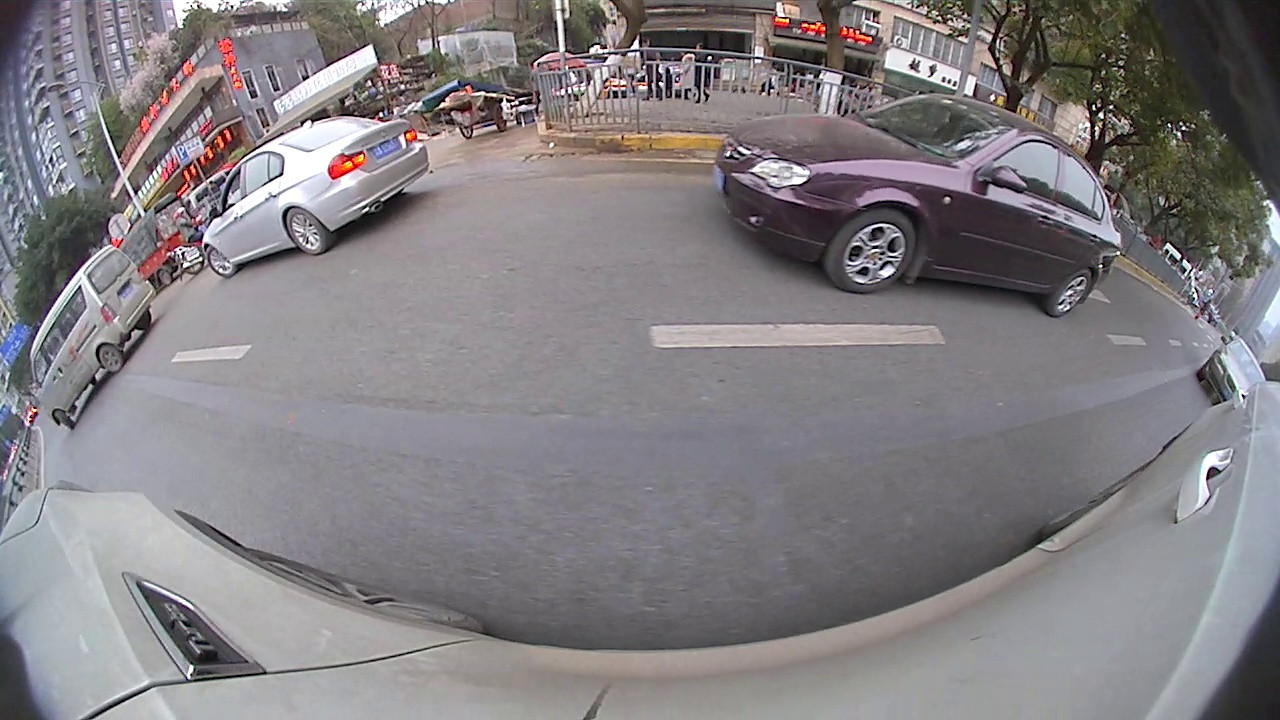car: (715, 86, 1125, 319), (197, 111, 432, 283), (25, 240, 156, 435), (1196, 335, 1266, 405)
front: (831, 209, 919, 294), (204, 246, 239, 277)
rear: (1048, 266, 1095, 322), (281, 206, 334, 255), (88, 345, 130, 372)
